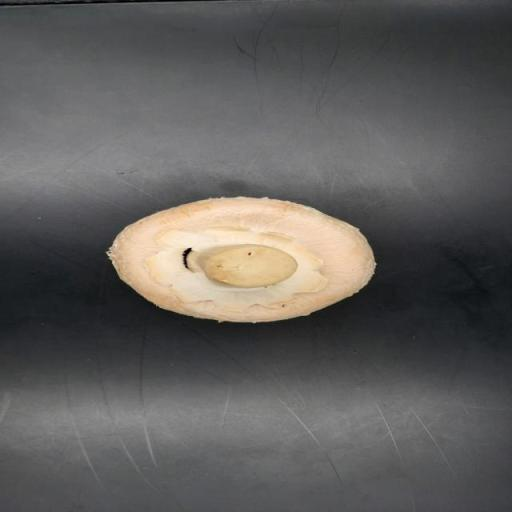Button Mushroom: (114, 198, 375, 324)
